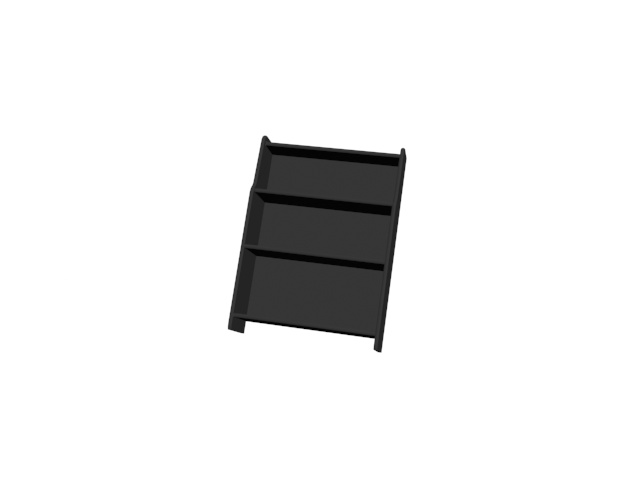bookcase: (225, 129, 408, 360)
